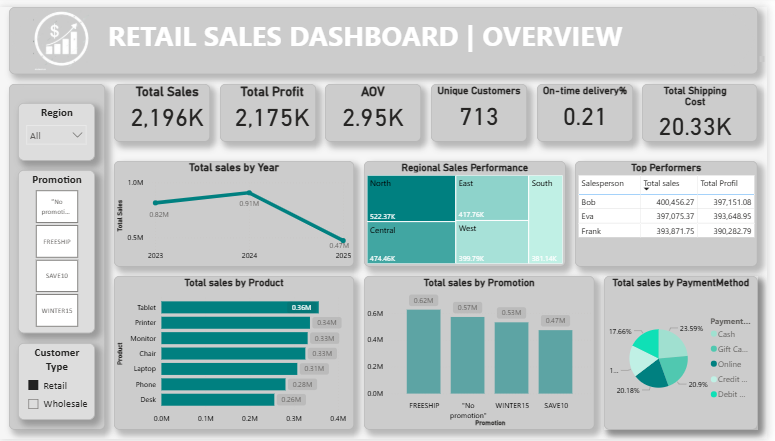

Layout of this report page (visuals, bound fields, positions):
{"tool":"powerbi","page":{"name":"Page 1","canvas":[1280,720],"ordinal":0},"visuals":[{"type":"shape","box":[16,0,1248,112],"z":0},{"type":"textbox","title":"RETAIL SALES DASHBOARD","box":[176,16,1104,80],"z":1000},{"type":"shape","box":[16,128,160,576],"z":2000},{"type":"slicer","title":"Region","fields":{"Values":["Sales.Region"]},"box":[32,160,128,96],"z":3000},{"type":"slicer","title":"Promotion","fields":{"Values":["Sales.Promotion"]},"box":[32,272,128,272],"z":4000},{"type":"slicer","title":"Customer Type","fields":{"Values":["Sales.CustomerType"]},"box":[32,560,128,128],"z":5000},{"type":"shape","box":[192,128,160,96],"z":6000},{"type":"shape","box":[368,128,160,96],"z":7000},{"type":"shape","box":[544,128,160,96],"z":8000},{"type":"shape","box":[896,128,160,96],"z":9000},{"type":"shape","box":[720,128,160,96],"z":10000},{"type":"card","title":"Total Sales","fields":{"Values":["Sales.Total sales"]},"box":[208,128,144,80],"z":11000},{"type":"card","title":"Total Profit","fields":{"Values":["Sales.Total Profil"]},"box":[384,128,144,80],"z":12000},{"type":"card","title":"AOV","fields":{"Values":["Sales.Average Order Value"]},"box":[544,128,160,80],"z":13000},{"type":"card","title":"Unique Customers","fields":{"Values":["Sales.Unique Customers"]},"box":[720,128,160,80],"z":14000},{"type":"card","title":"On-time delivery%","fields":{"Values":["Sales.OnTime Delivery %"]},"box":[896,128,160,80],"z":15000},{"type":"shape","box":[192,256,400,176],"z":16000},{"type":"shape","box":[608,256,336,176],"z":17000},{"type":"shape","box":[960,256,304,176],"z":18000},{"type":"lineChart","fields":{"Category":["Sales.Year"],"Y":["Sales.Total sales"]},"box":[192,256,400,176],"z":19000},{"type":"treemap","title":"Regional Sales Performance","fields":{"Group":["Sales.Region"],"Values":["Sales.Total sales"]},"box":[608,256,336,176],"z":20000},{"type":"tableEx","title":"Top Performers","fields":{"Values":["Sales.Salesperson","Sales.Total sales","Sales.Total Profil"]},"box":[960,256,304,176],"z":21000},{"type":"shape","box":[192,448,400,256],"z":22000},{"type":"shape","box":[608,448,384,256],"z":23000},{"type":"shape","box":[1008,448,256,256],"z":24000},{"type":"barChart","fields":{"Category":["Sales.Product"],"Y":["Sales.Total sales"]},"box":[192,448,400,256],"z":25000},{"type":"columnChart","fields":{"Category":["Sales.Promotion"],"Y":["Sales.Total sales"]},"box":[608,448,384,256],"z":26000},{"type":"pieChart","fields":{"Category":["Sales.PaymentMethod"],"Y":["Sales.Total sales"]},"box":[1008,448,256,256],"z":27000},{"type":"shape","box":[1072,128,192,96],"z":29000},{"type":"card","title":"Total Shipping Cost","fields":{"Values":["Sales.Total Shipping"]},"box":[1088,128,144,96],"z":30000},{"type":"image","box":[32,0,144,112],"z":30001}]}

Visuals, with their boxes in screenshot pixels (x1, y1, x2, y2), scaled from the page's 1280x720 canvas onto the 775x441 screenshot:
shape: [10,0,765,69]
"RETAIL SALES DASHBOARD" textbox: [107,10,774,59]
shape: [10,78,107,431]
"Region" slicer: [19,98,97,157]
"Promotion" slicer: [19,167,97,333]
"Customer Type" slicer: [19,343,97,421]
shape: [116,78,213,137]
shape: [223,78,320,137]
shape: [329,78,426,137]
shape: [542,78,639,137]
shape: [436,78,533,137]
"Total Sales" card: [126,78,213,127]
"Total Profit" card: [232,78,320,127]
"AOV" card: [329,78,426,127]
"Unique Customers" card: [436,78,533,127]
"On-time delivery%" card: [542,78,639,127]
shape: [116,157,358,265]
shape: [368,157,572,265]
shape: [581,157,765,265]
lineChart - Sales.Year x Sales.Total sales: [116,157,358,265]
"Regional Sales Performance" treemap: [368,157,572,265]
"Top Performers" tableEx: [581,157,765,265]
shape: [116,274,358,431]
shape: [368,274,601,431]
shape: [610,274,765,431]
barChart - Sales.Product x Sales.Total sales: [116,274,358,431]
columnChart - Sales.Promotion x Sales.Total sales: [368,274,601,431]
pieChart - Sales.PaymentMethod x Sales.Total sales: [610,274,765,431]
shape: [649,78,765,137]
"Total Shipping Cost" card: [659,78,746,137]
image: [19,0,107,69]
